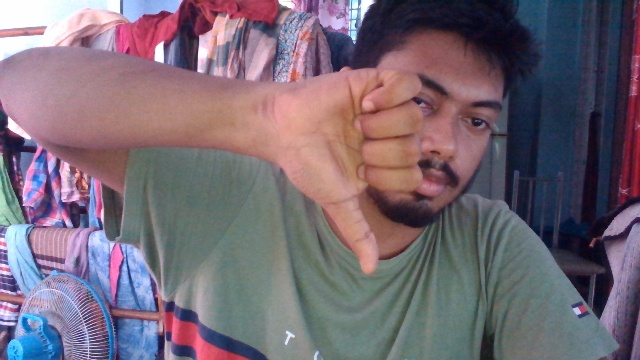no: (274, 60, 424, 296)
